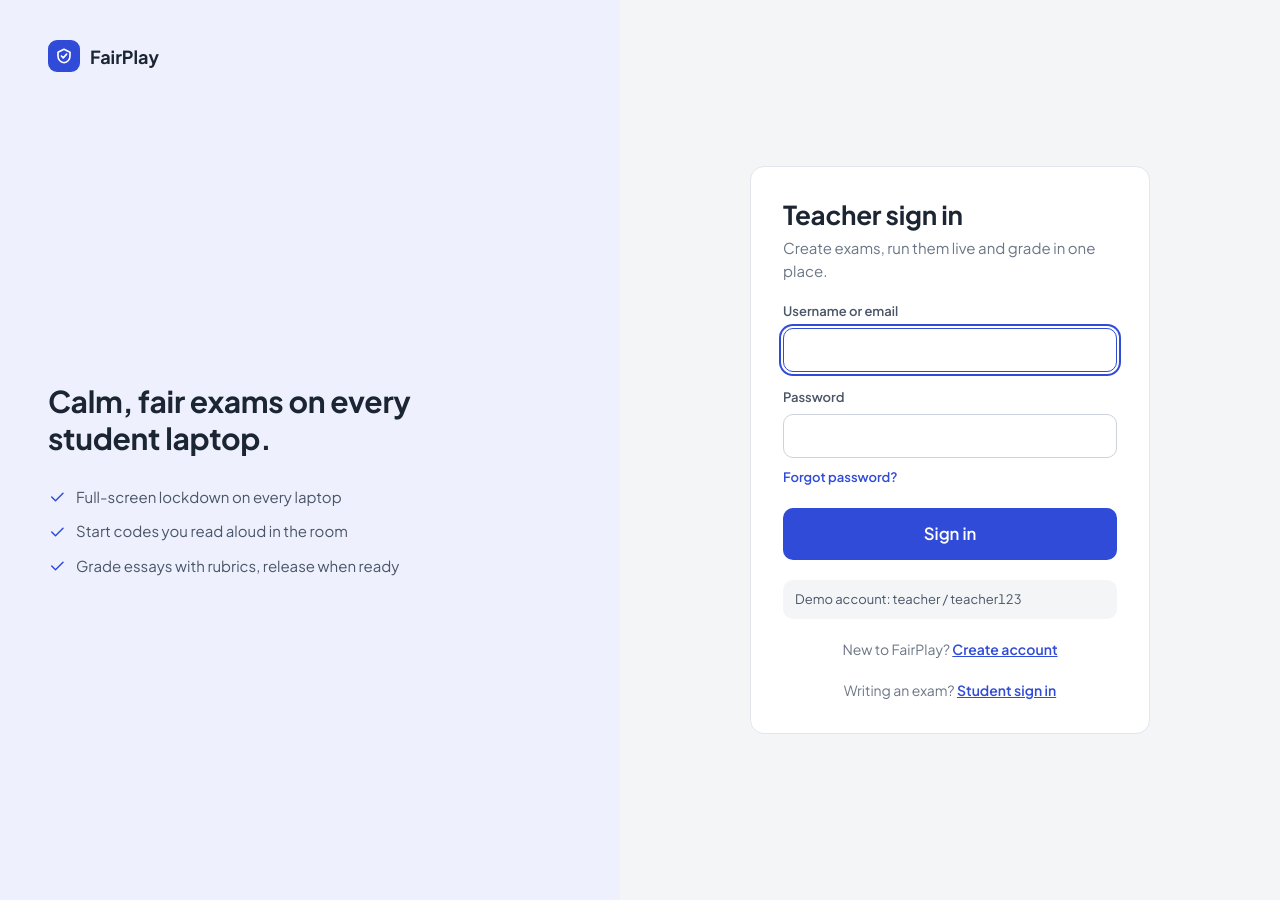
Scenario: LoginPage › links to Create account and explains Forgot password
Click the button "Forgot password?" at x=840, y=478, box [783,464,898,492]
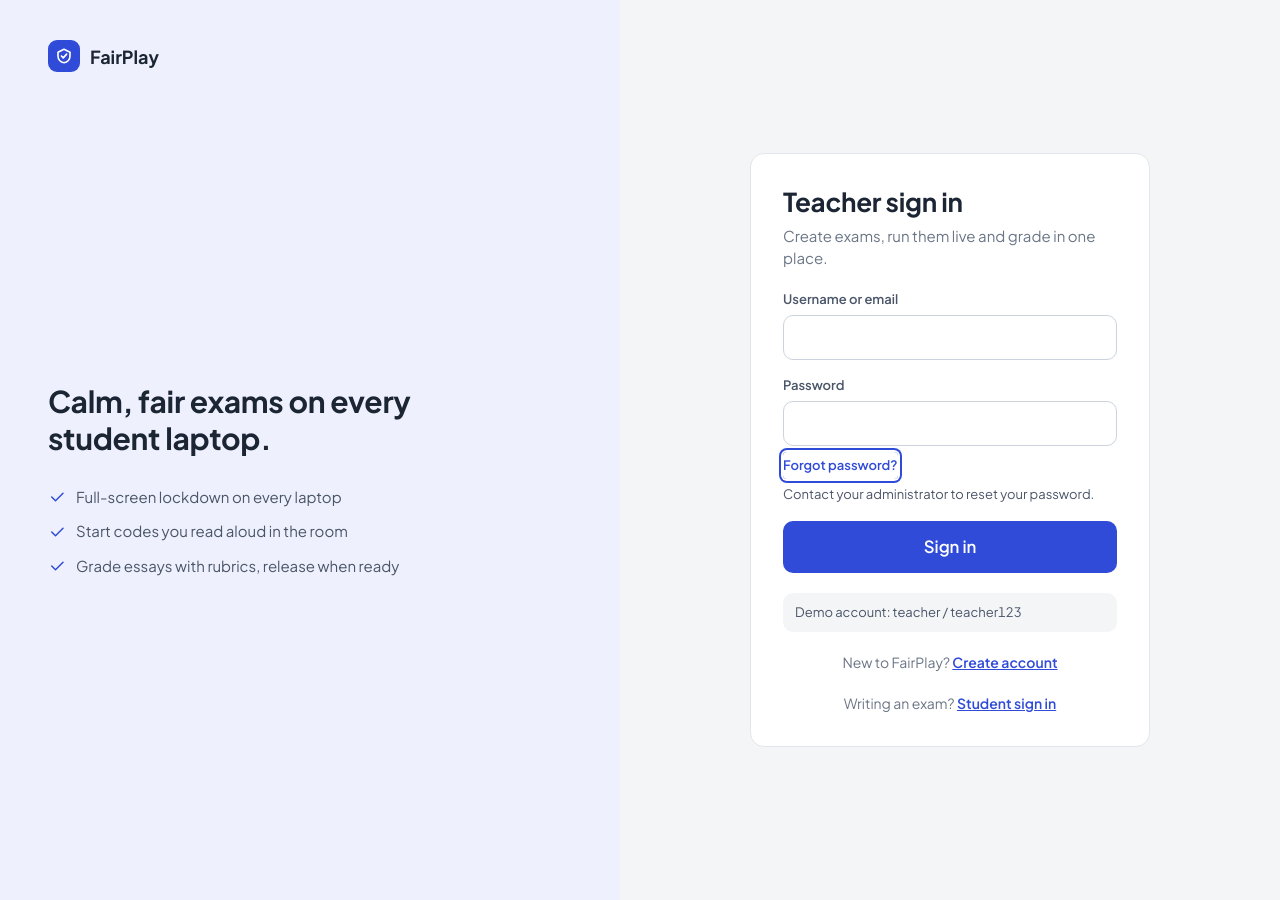
expect the text "Contact your administrator to reset your password." is shown: met, box [783,485,1117,504]
